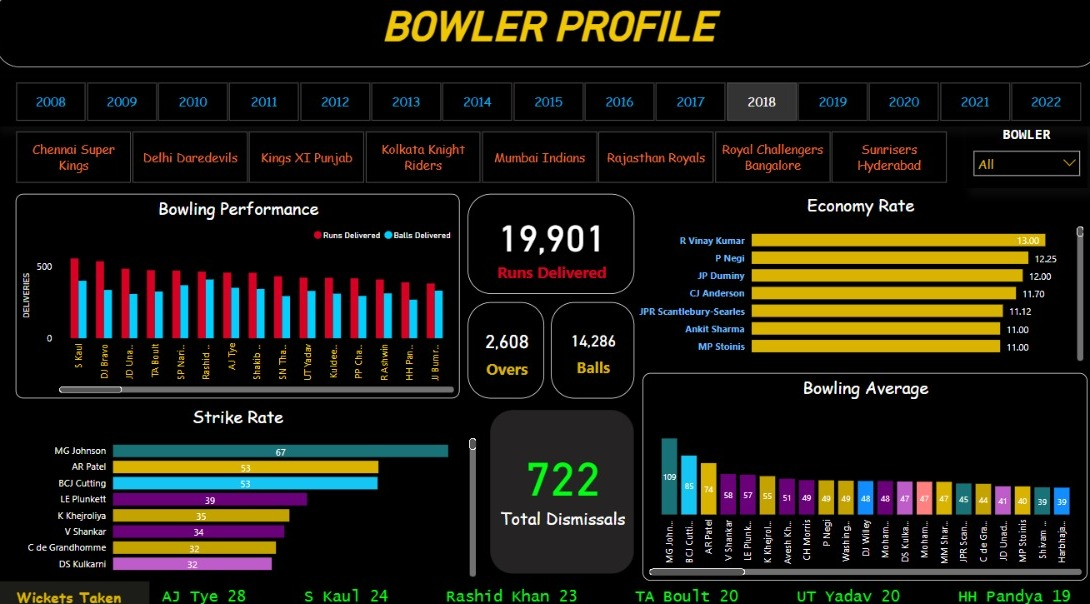

Layout of this report page (visuals, bound fields, positions):
{"tool":"powerbi","page":{"name":"Bowler","canvas":[1420,800],"ordinal":3},"visuals":[{"type":"textbox","box":[0,0,1420,98.6],"z":0},{"type":"slicer","fields":{"Values":["BALLER SEASONAL.Season"]},"box":[0,111.4,1420,62.9],"z":1000},{"type":"slicer","fields":{"Values":["BALLER SEASONAL.Balling Team"]},"box":[0,174.3,1247.1,80],"z":2000},{"type":"slicer","title":"BOWLER","fields":{"Values":["BALLER SEASONAL.Baller"]},"box":[1247.1,174.3,157.1,80],"z":3000},{"type":"card","fields":{"Values":["Sum(BALLER SEASONAL.Overs Bowled)"]},"box":[607.1,400,98.6,124.3],"z":4000},{"type":"card","fields":{"Values":["Sum(BALLER SEASONAL.Runs Delivered)"]},"box":[607.1,261.4,214.3,128.6],"z":5000},{"type":"card","fields":{"Values":["Sum(BALLER SEASONAL.Wickets Taken)"]},"box":[635.1,539.2,186.5,212.2],"z":6000},{"type":"clusteredColumnChart","title":"Bowling Performance","fields":{"Category":["BALLER SEASONAL.Baller"],"Y":["Sum(BALLER SEASONAL.Runs Delivered)","Sum(BALLER SEASONAL.Balls Delivered)"]},"box":[25.7,261.4,571.4,262.9],"z":7000},{"type":"card","fields":{"Values":["Sum(BALLER SEASONAL.Balls Delivered)"]},"box":[714.3,400,107.1,124.3],"z":8000},{"type":"clusteredBarChart","title":"Economy Rate","fields":{"Y":["Avg(BALLER SEASONAL.Economy Rate)"],"Category":["BALLER SEASONAL.Baller"]},"box":[821.6,260.8,582.4,220.3],"z":9000},{"type":"ScrollingTextVisual1448795304508","title":"Wicket Count","fields":{"Category":["BALLER SEASONAL.Baller"],"Measure Absolute":["Sum(BALLER SEASONAL.Wickets Taken)"]},"box":[197.3,759.5,1223,40.5],"z":10000},{"type":"textbox","box":[0,759.5,197.3,40.5],"z":11000},{"type":"columnChart","title":"Bowling Average","fields":{"Category":["BALLER SEASONAL.Baller"],"Y":["Avg(BALLER SEASONAL.Bowling Average)"],"Series":["BALLER SEASONAL.Balling Team"]},"box":[832.4,491.9,571.6,267.6],"z":12000},{"type":"barChart","title":"Strike Rate","fields":{"Category":["BALLER SEASONAL.Baller"],"Y":["Avg(BALLER SEASONAL.Strike Rate)"],"Series":["BALLER SEASONAL.Balling Team"]},"box":[0,533.8,623,225.7],"z":13000}]}

Visuals, with their boxes in screenshot pixels (x1, y1, x2, y2), scaled from the page's 1420x800 canvas onto the 1090x604 screenshot:
textbox: bbox=[0, 0, 1089, 74]
slicer - BALLER SEASONAL.Season: bbox=[0, 84, 1089, 132]
slicer - BALLER SEASONAL.Balling Team: bbox=[0, 132, 957, 192]
"BOWLER" slicer: bbox=[957, 132, 1078, 192]
card - Sum(BALLER SEASONAL.Overs Bowled): bbox=[466, 302, 542, 396]
card - Sum(BALLER SEASONAL.Runs Delivered): bbox=[466, 197, 631, 294]
card - Sum(BALLER SEASONAL.Wickets Taken): bbox=[488, 407, 631, 567]
"Bowling Performance" clusteredColumnChart: bbox=[20, 197, 458, 396]
card - Sum(BALLER SEASONAL.Balls Delivered): bbox=[548, 302, 631, 396]
"Economy Rate" clusteredBarChart: bbox=[631, 197, 1078, 363]
"Wicket Count" ScrollingTextVisual1448795304508: bbox=[151, 573, 1089, 603]
textbox: bbox=[0, 573, 151, 603]
"Bowling Average" columnChart: bbox=[639, 371, 1078, 573]
"Strike Rate" barChart: bbox=[0, 403, 478, 573]
